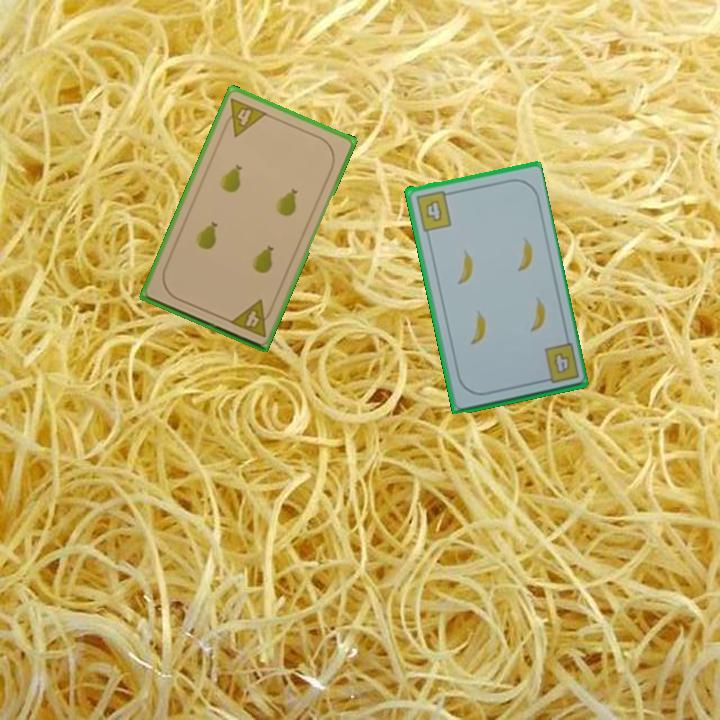4b: (537, 340, 582, 386), (412, 187, 455, 234)
4p: (218, 95, 270, 140), (226, 296, 276, 340)
